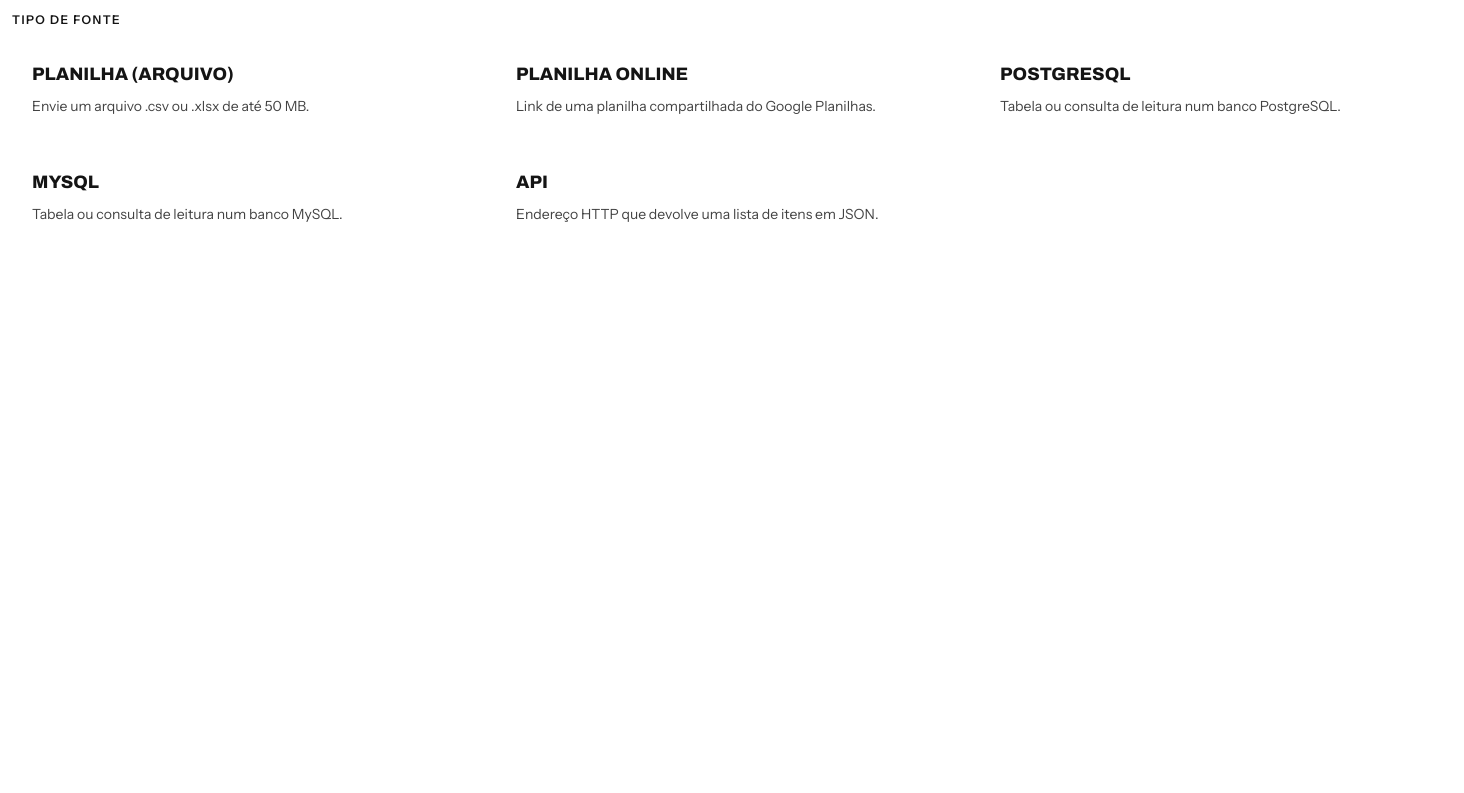
Test: SourceForm (create) › kind MySQL renders its fields
Click the button "MySQL Tabela ou consulta de leitura num banco MySQL.".
click(66, 182)  # box [12,148,484,244]
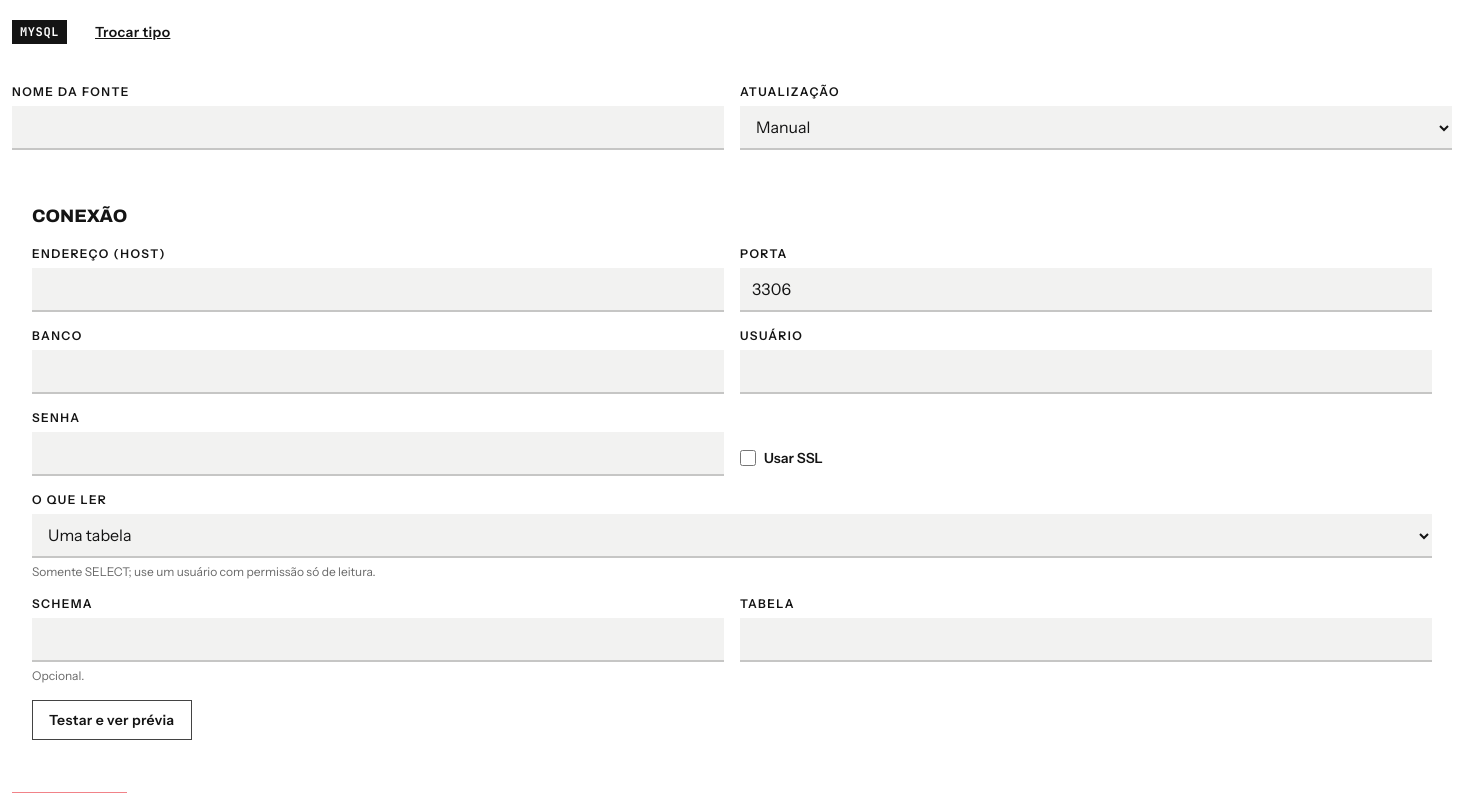
Check: the field labelled "Endereço (host)" is shown, box [32,268,724,312]
